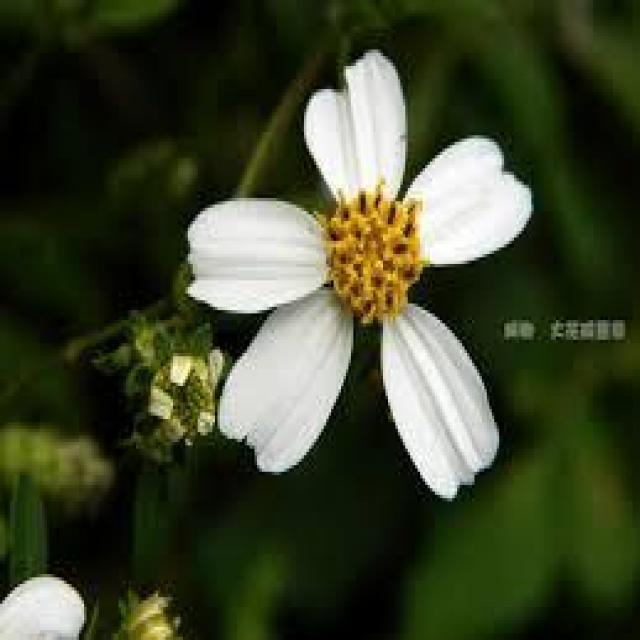organic waste: (193, 54, 519, 490)
